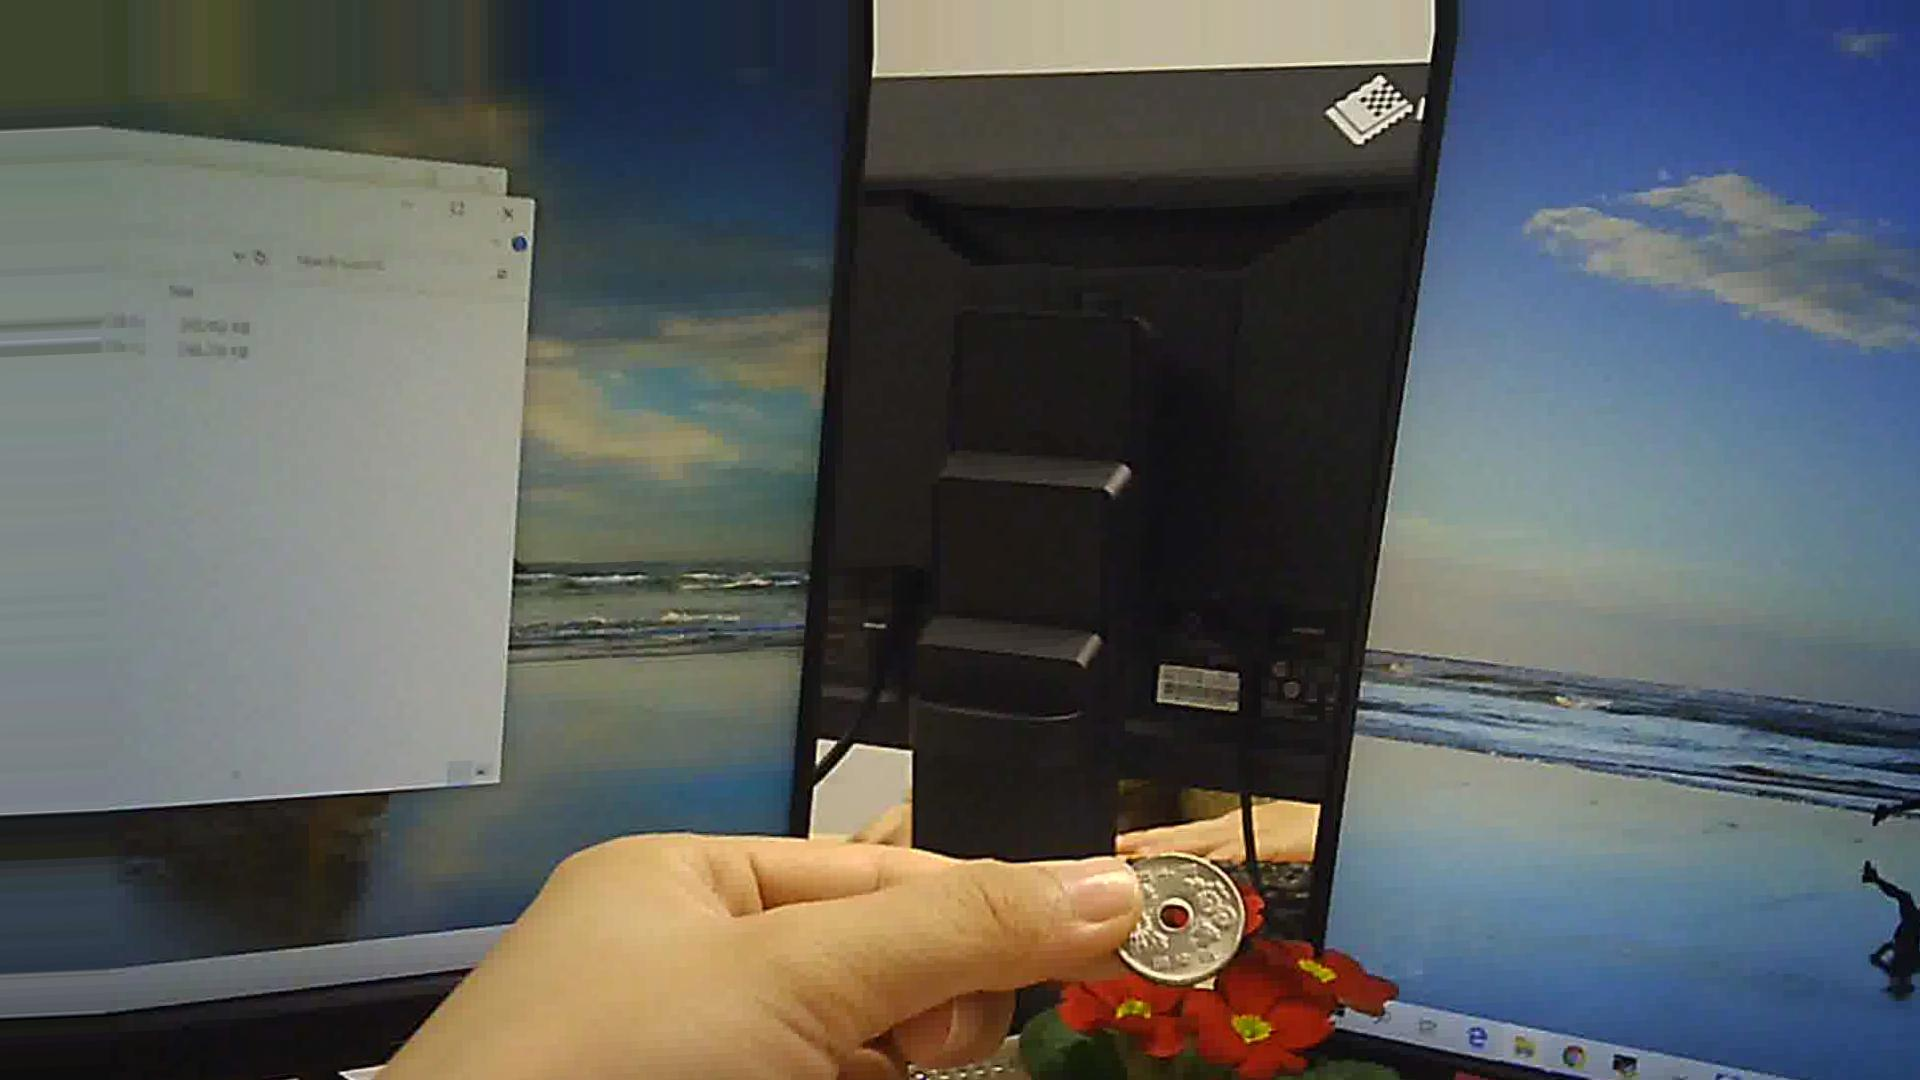50 Yen: (1101, 840, 1250, 998)
